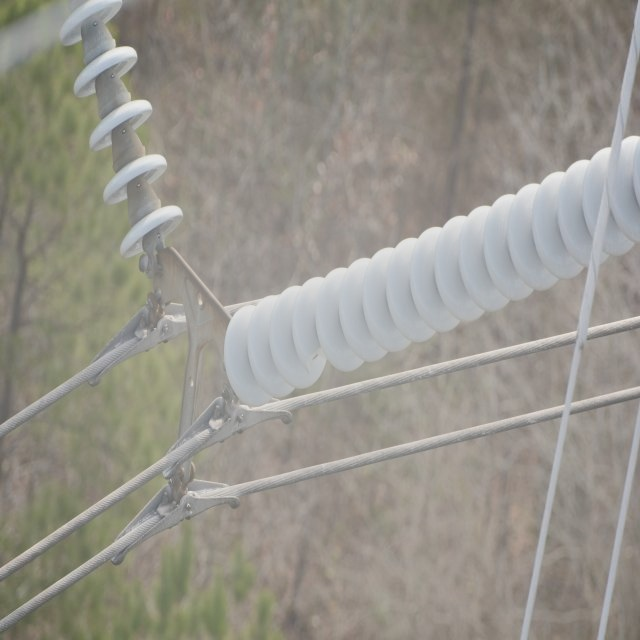broken: (304, 341, 330, 374)
insulator: (224, 127, 640, 412), (58, 0, 183, 260)
